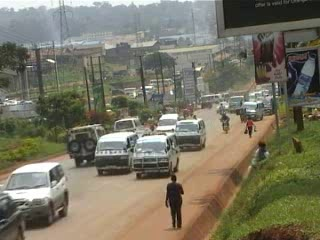Car: (0, 158, 69, 226), (64, 123, 115, 168), (0, 187, 28, 239), (154, 111, 183, 137), (216, 100, 230, 113)
Motorcycle: (219, 112, 232, 134), (146, 112, 156, 134), (185, 100, 195, 117), (180, 106, 188, 121), (219, 102, 227, 116)
